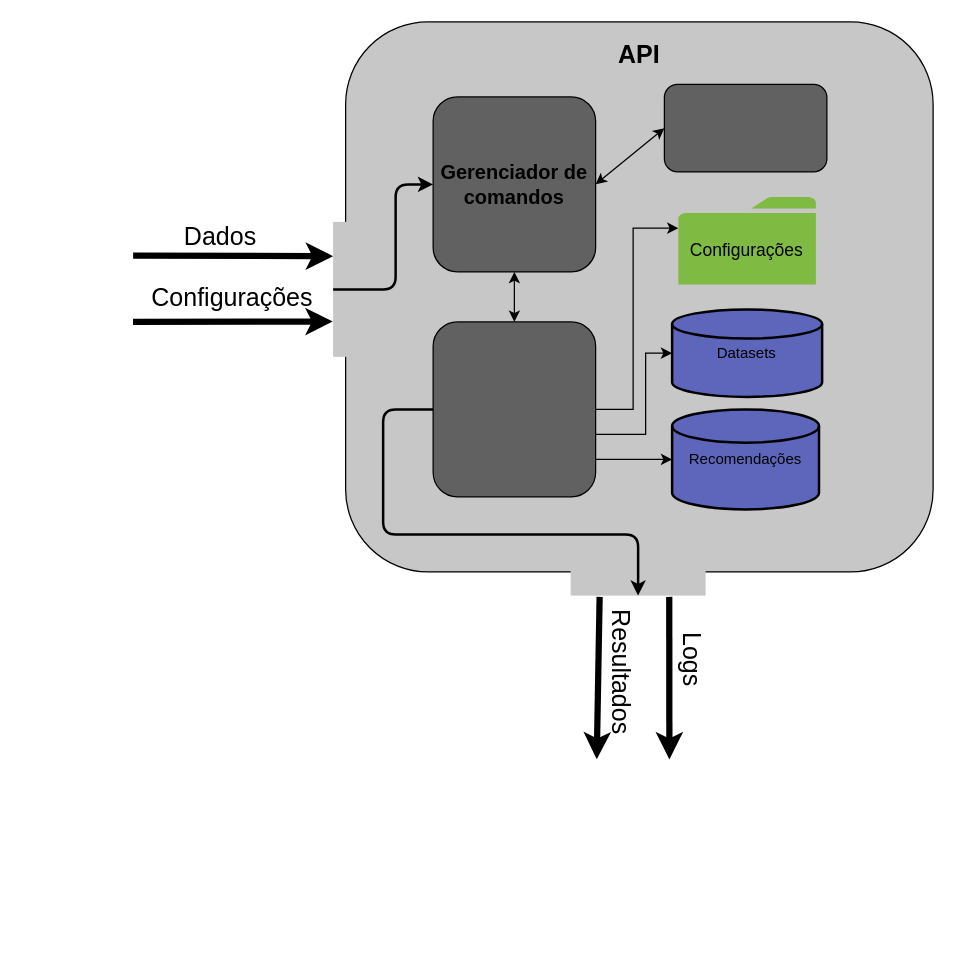
Image size: 956x956. Some labels were removed from this diagram. The shapes that lost their labels are listed below. From the top down, each one's centre as x and y in pixels, then its label:
At (x=745, y=127): "CARSKit".
At (x=514, y=409): "Gerenciador de dados".
